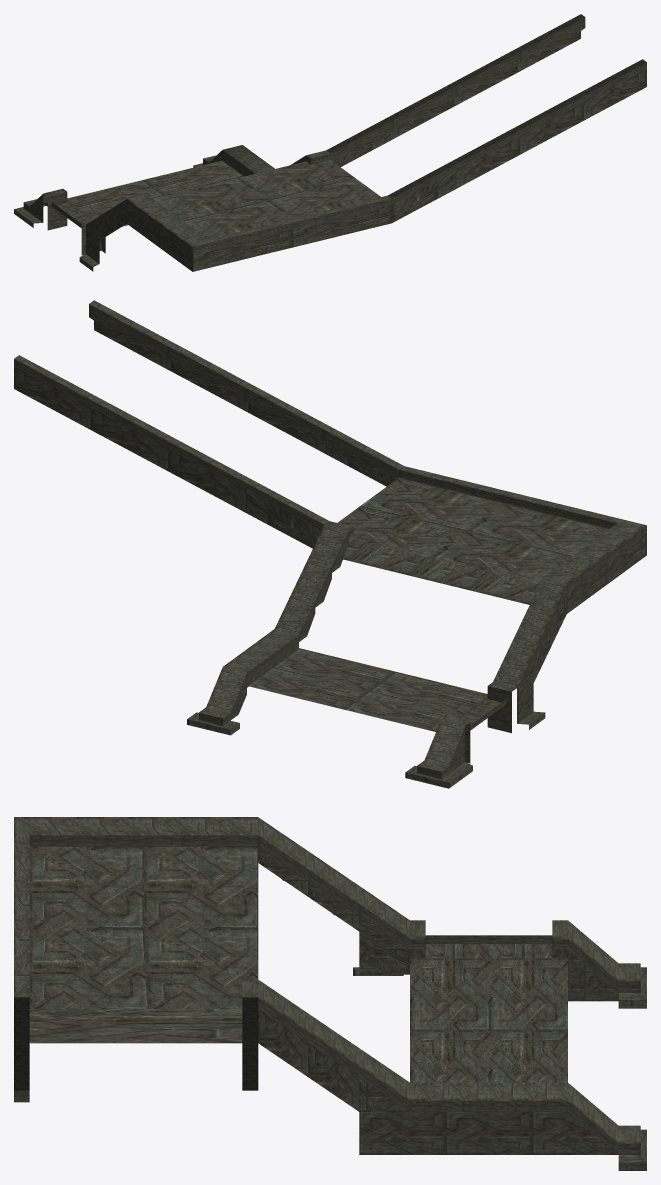
File: CH09_SMAUG_PLAYSURFACE_LAIRSTAIRSIDES.fbx
3 renders of one model, top to bottom at view 1: azimuth 30°, elevation 25°; view 2: azimuth 150°, elevation 25°; view 3: azimuth 270°, elevation 25°, orthographic. The views are drawn at different scales.
Visible parts, largest first — view 1: CH09_SMAUG_PLAYSURFACE_LAIRSTAIRSIDES; view 2: CH09_SMAUG_PLAYSURFACE_LAIRSTAIRSIDES; view 3: CH09_SMAUG_PLAYSURFACE_LAIRSTAIRSIDES.
Boxes of the visible parts, x1=… form: CH09_SMAUG_PLAYSURFACE_LAIRSTAIRSIDES: x1=14, y1=14, x2=646, y2=271; CH09_SMAUG_PLAYSURFACE_LAIRSTAIRSIDES: x1=14, y1=300, x2=646, y2=788; CH09_SMAUG_PLAYSURFACE_LAIRSTAIRSIDES: x1=14, y1=817, x2=646, y2=1170.
Size of the model in its own units: 313213 by 106000 by 200285.
1 material, 1 textured.
